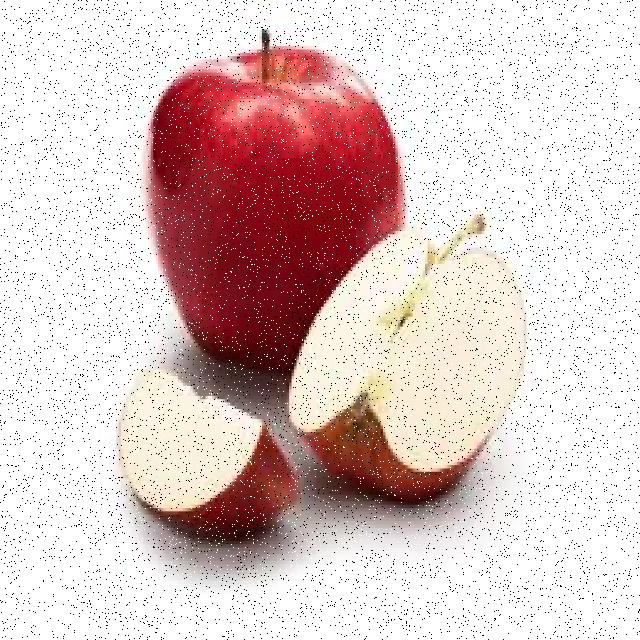Apple: (147, 54, 406, 358), (291, 224, 530, 502), (116, 370, 296, 544)
